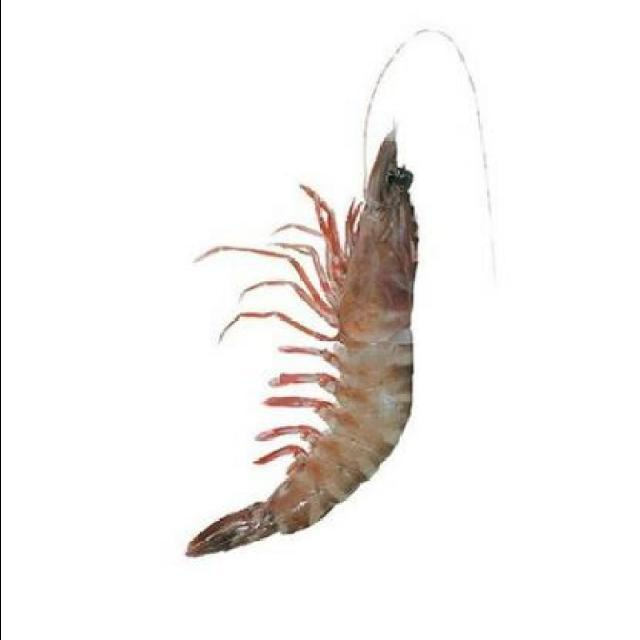shrimp: (175, 105, 427, 564)
